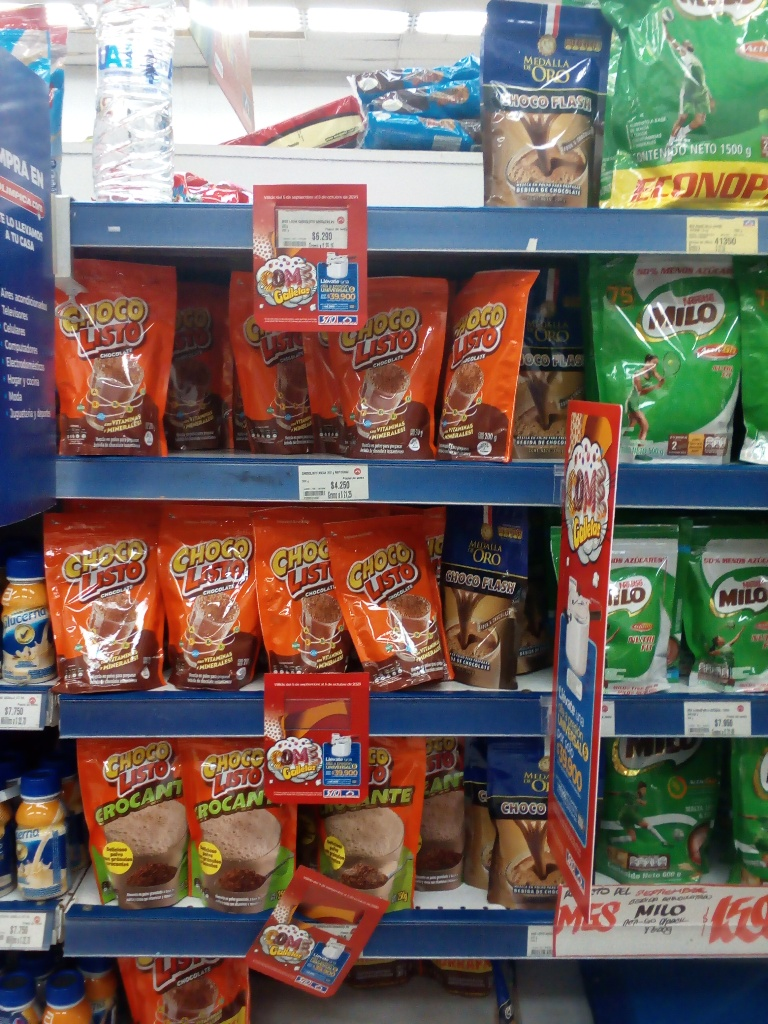COL0170205DYP50000: (587, 251, 738, 457)
